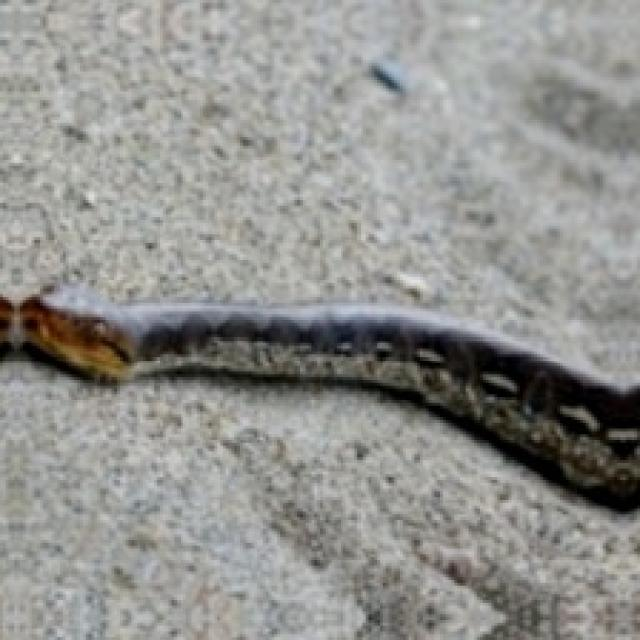reticulated python: (0, 283, 637, 506)
